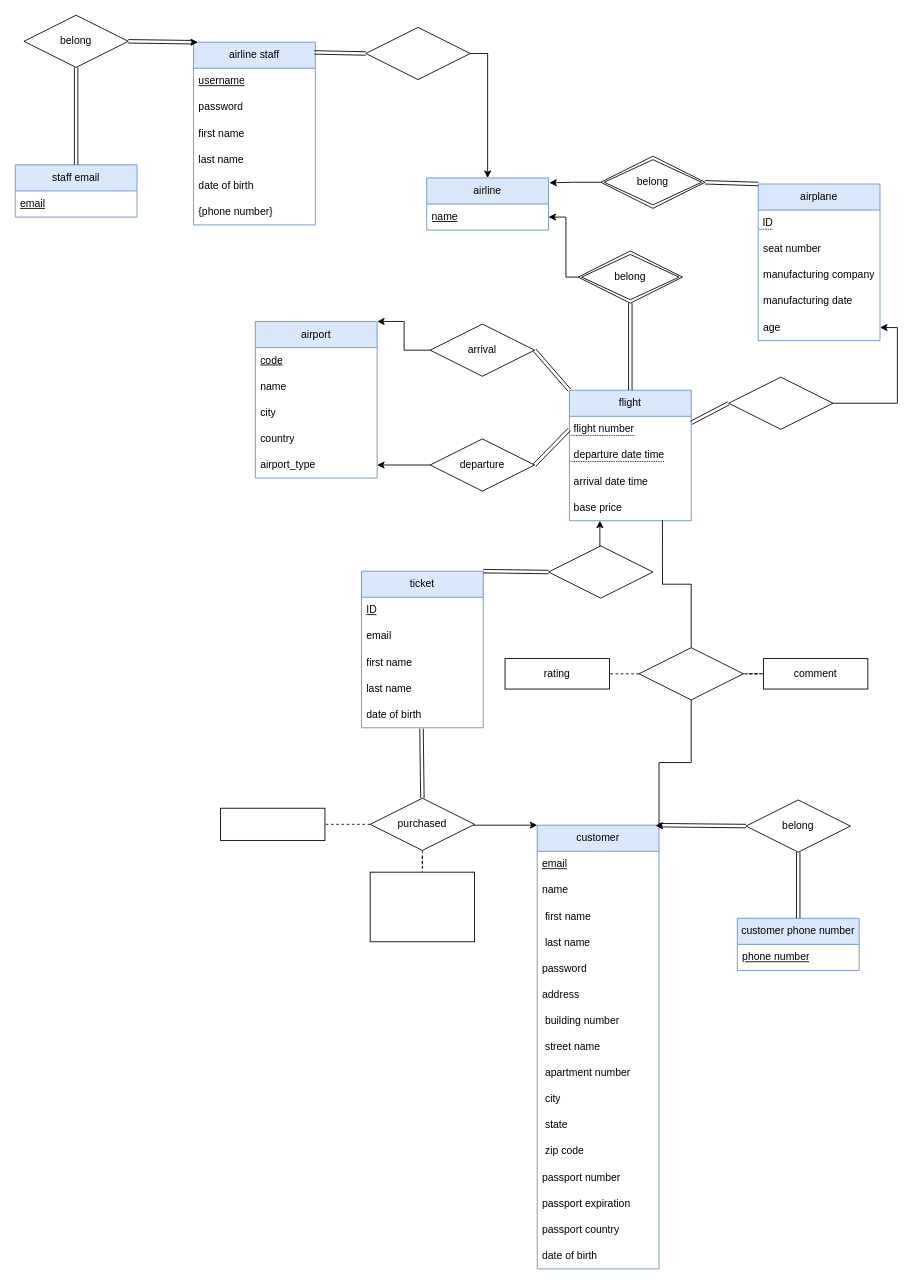
The diagram is 920 pixels wide and 1284 high, and some of its shapes have lost their labels. Each missing label, with the centre of its shape:
"airplane_flight" goes at (780,402).
"card type card number name expiration date purchased_price" goes at (422,906).
"of" goes at (600,571).
"purchased date time" goes at (272,823).
"rate" goes at (690,673).
"work" goes at (417,53).
